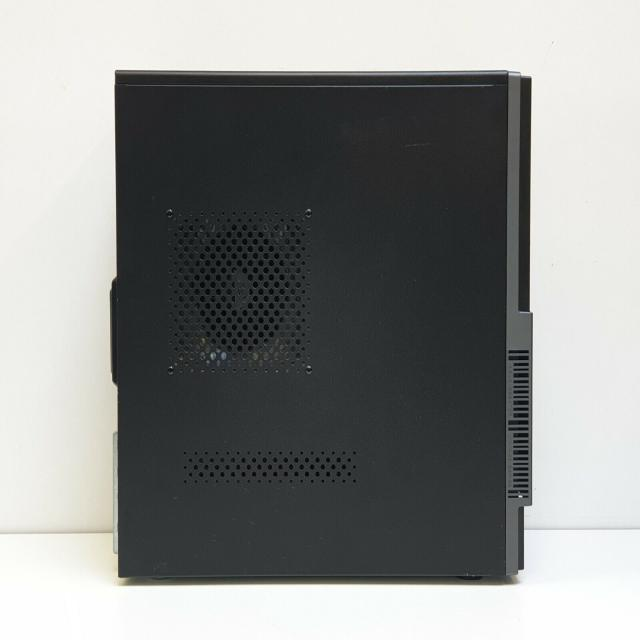Desktop-PC: (89, 46, 581, 604)
